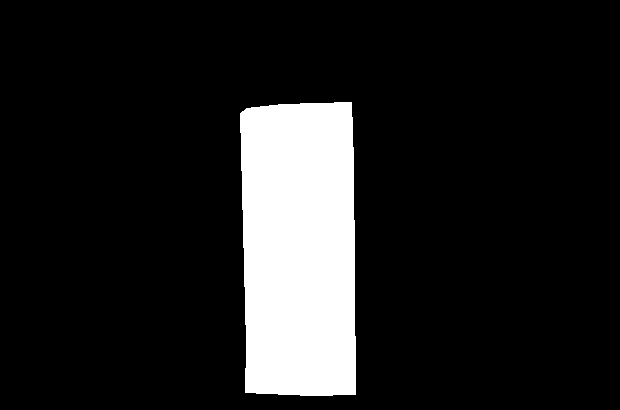type3s: (236, 95, 362, 397)
